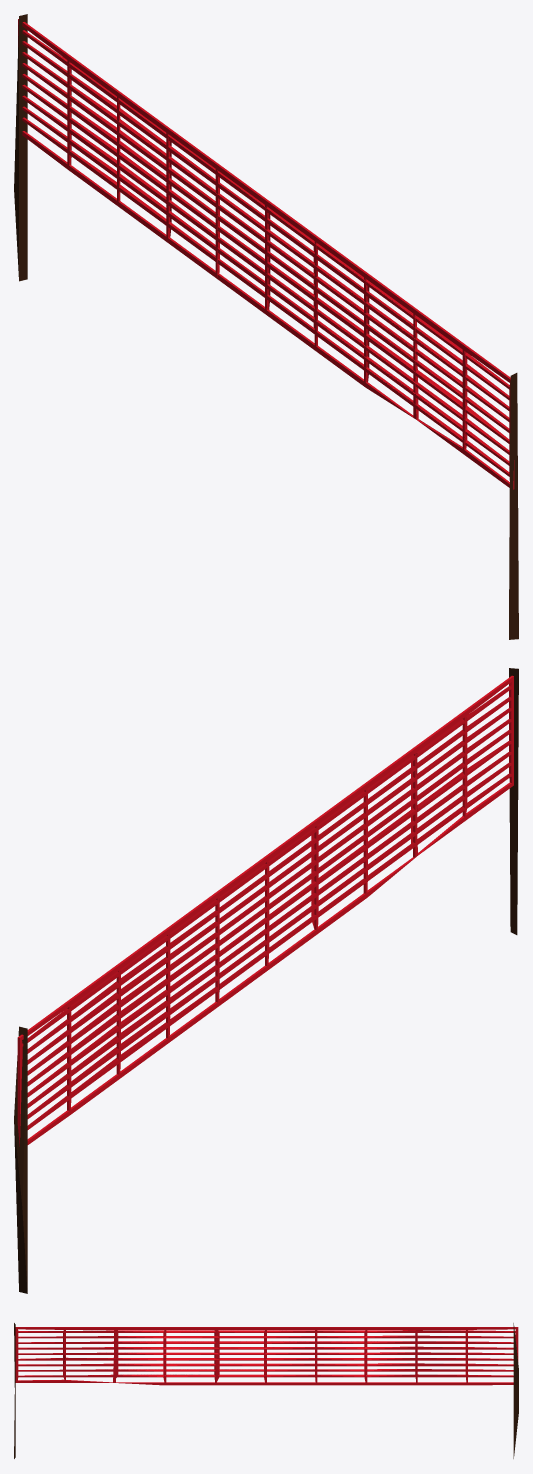
File: Volleyball.glb
3 views of the same model, one above another, from view 1: azimuth 30°, elevation 25°; view 2: azimuth 150°, elevation 25°; view 3: azimuth 270°, elevation 25° (orthographic). The views are drawn at different scales.
Visible parts, largest first — view 1: Net, Posts; view 2: Net, Posts; view 3: Net, Posts.
Part boxes in pixels (<box>): Net: <box>18,19,514,489</box>; Posts: <box>14,14,518,639</box>; Net: <box>17,675,513,1146</box>; Posts: <box>14,668,518,1293</box>; Net: <box>15,1327,518,1385</box>; Posts: <box>14,1323,518,1458</box>.
Size of what is drawn, in the model's own units: 0.0788 by 2.36 by 8.
